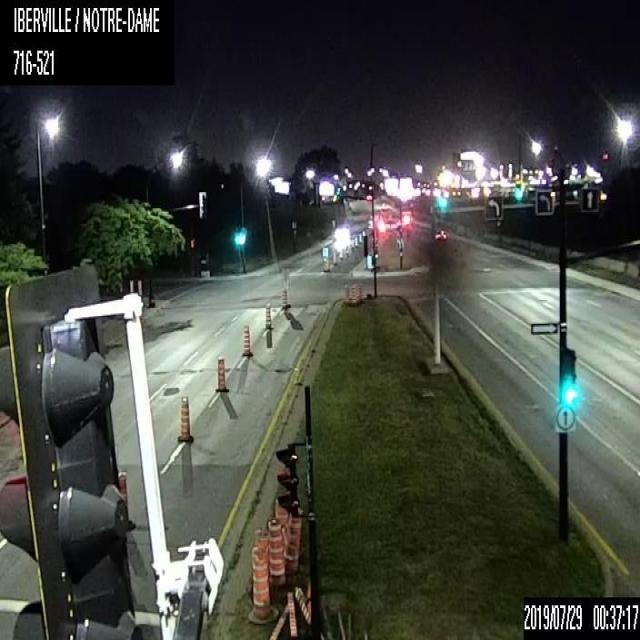construction: (246, 544, 278, 623), (267, 517, 286, 585), (283, 504, 301, 574), (118, 467, 134, 530), (176, 392, 193, 443), (270, 600, 288, 638), (294, 584, 310, 625), (288, 590, 298, 637), (240, 323, 254, 356), (215, 353, 227, 391), (274, 493, 290, 520), (254, 528, 268, 550), (262, 302, 273, 330), (346, 283, 358, 304), (279, 286, 290, 306), (332, 249, 336, 264), (338, 245, 342, 256), (357, 232, 361, 242), (354, 236, 357, 245)
vehicle: (433, 227, 447, 241)
